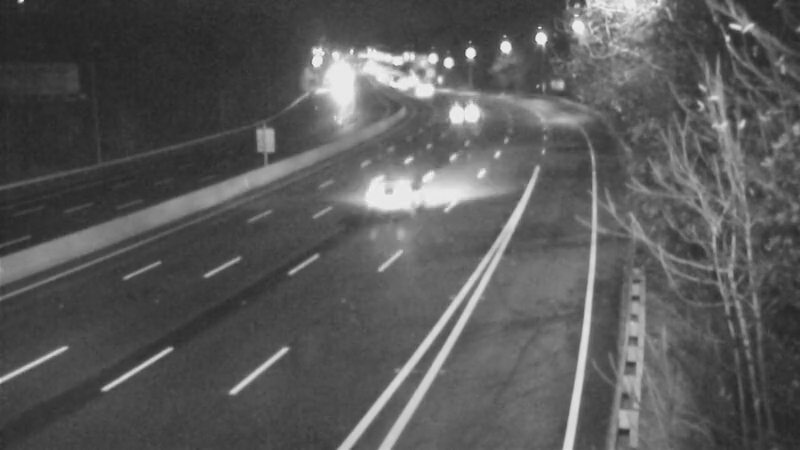vehicle: (346, 155, 426, 235), (398, 66, 448, 116), (439, 85, 489, 135)
